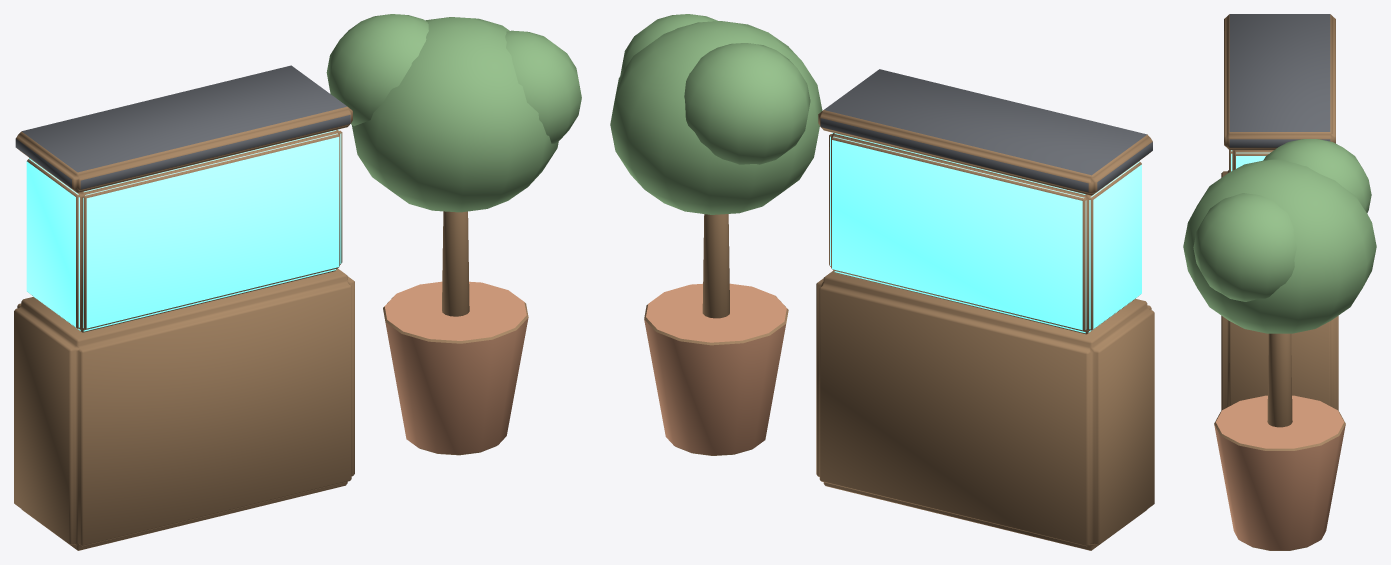
Rendered from OW_HomeAquariumAndPlant.fbx.
3 views of the same model, side by side, from view 1: azimuth 30°, elevation 25°; view 2: azimuth 150°, elevation 25°; view 3: azimuth 270°, elevation 25° (orthographic). The views are drawn at different scales.
Visible parts, largest first — view 1: AquariumBase; view 2: AquariumBase; view 3: AquariumBase.
Part boxes in pixels (x1,y1,x2,y2): AquariumBase: [14, 14, 581, 550]; AquariumBase: [610, 14, 1154, 550]; AquariumBase: [1183, 14, 1376, 550].
Bounding box in the file's own units: 209 × 160 × 76.
